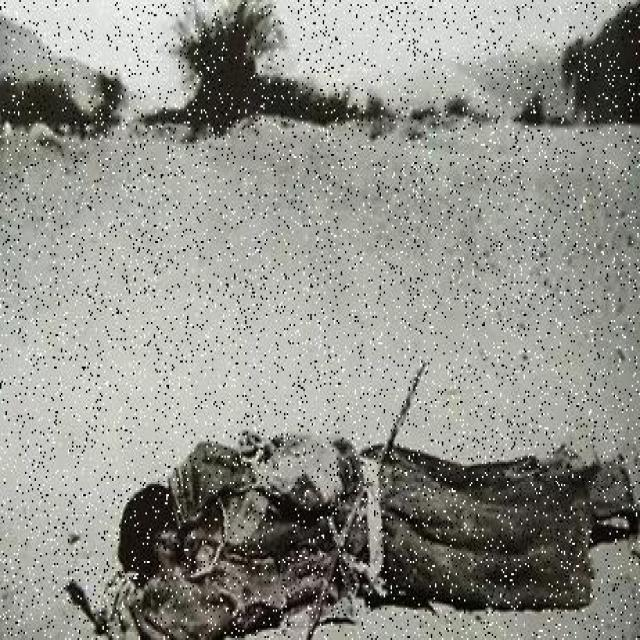fall: (112, 410, 637, 618)
